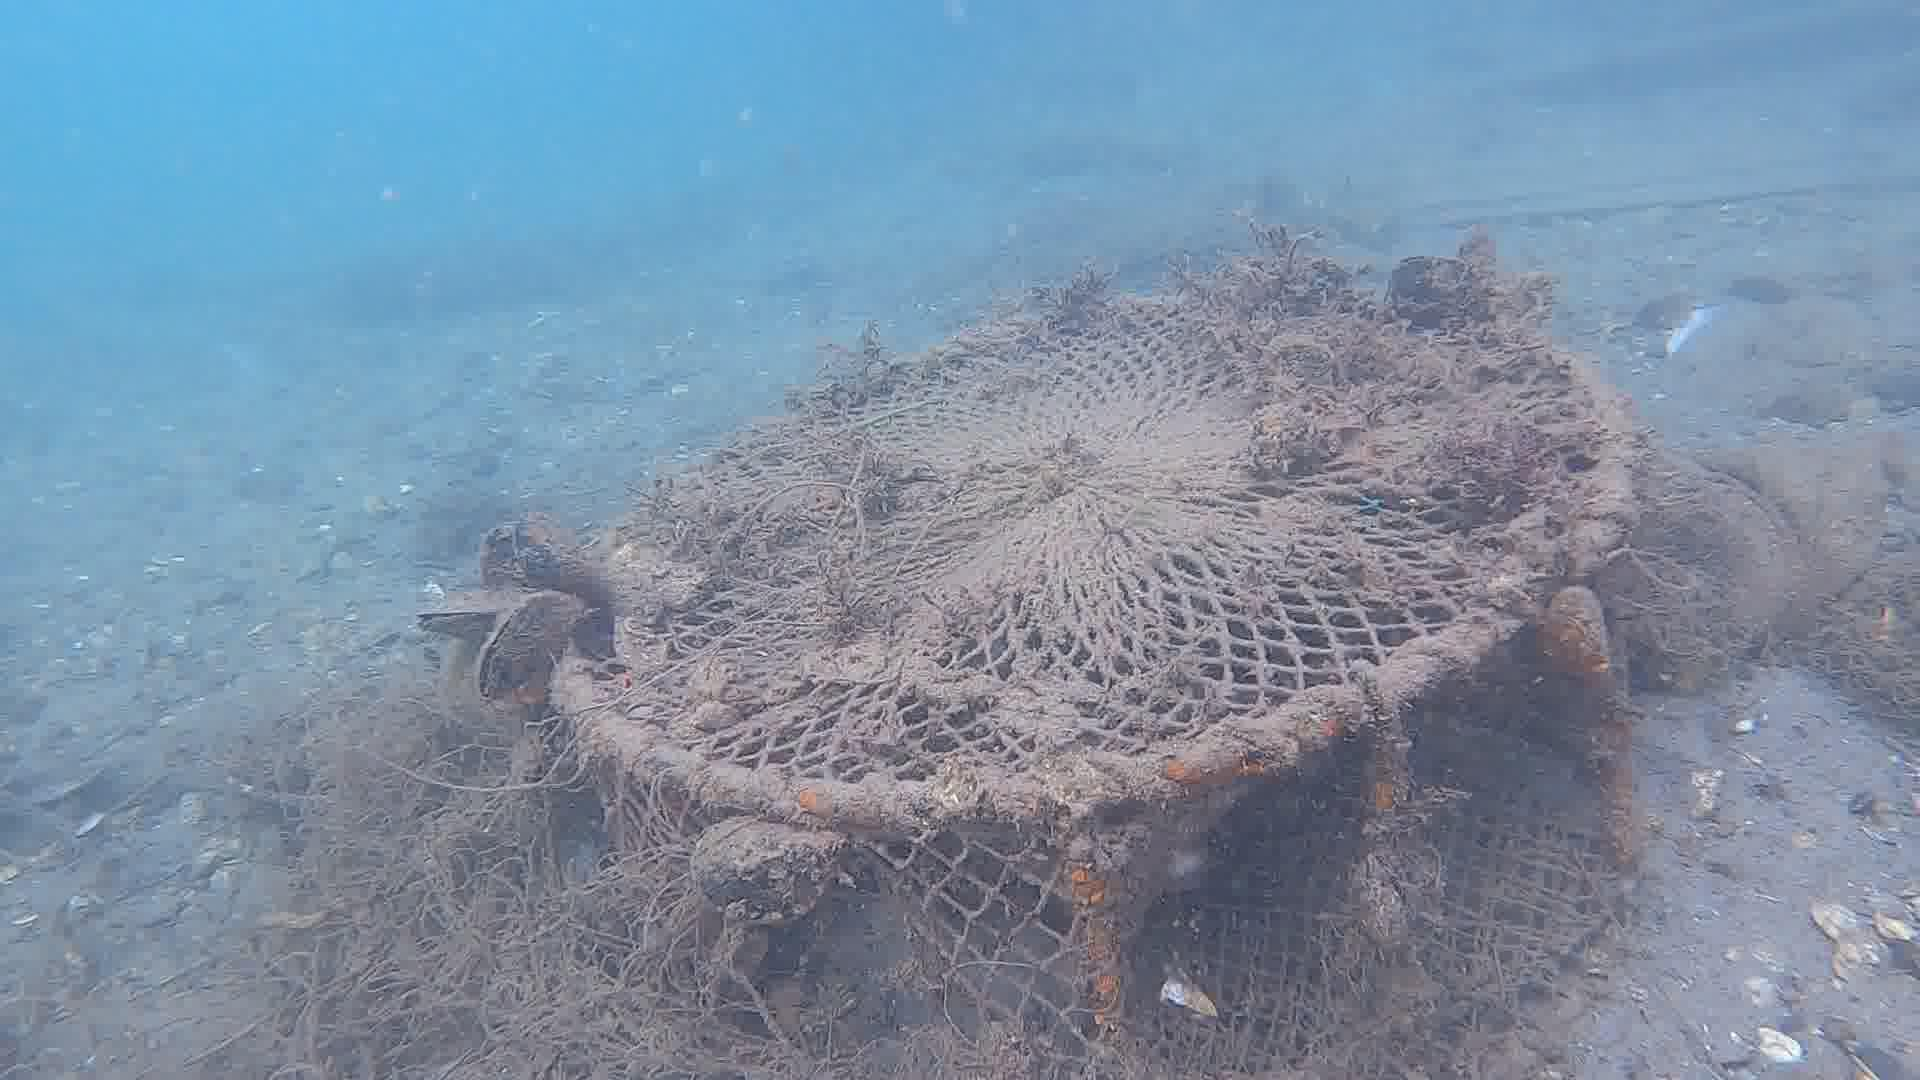circular fish trap: (529, 281, 1644, 1080)
